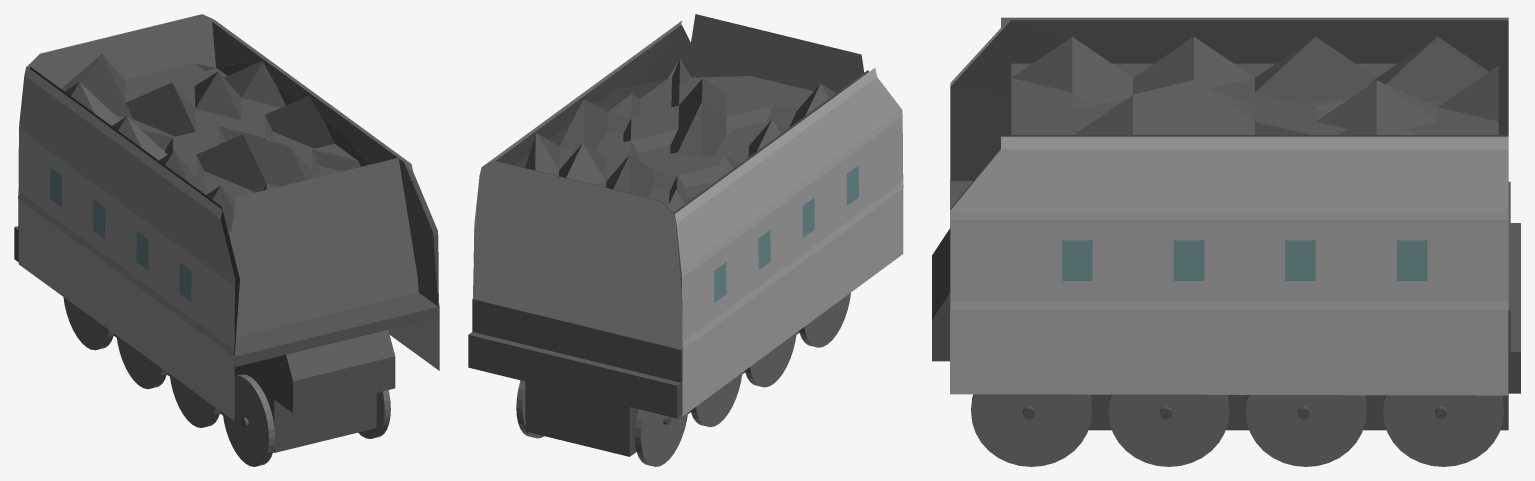
File: lner-a4-tender-silver.dae
3 views of the same model, side by side, from view 1: azimuth 30°, elevation 25°; view 2: azimuth 150°, elevation 25°; view 3: azimuth 270°, elevation 25° (orthographic). The views are drawn at different scales.
Visible parts, largest first — view 1: Plane_028, Plane_055, Plane_007, Plane_066, Plane_002, Plane_027, Plane, Plane_003, Plane_001, Cylinder_004, Plane_063, Plane_068 (+13 smaller); view 2: Plane_005, Plane_028, Plane_007, Plane_066, Plane_055, Plane_004, Plane_006, Plane_001, Plane_003, Plane_063, Plane_068, Cylinder_010 (+12 smaller); view 3: Plane_046, Plane_028, Plane_022, Plane_026, Plane_016, Cylinder_005, Cylinder, Cylinder_008, Cylinder_011, Plane_019, Plane_060, Plane_017 (+17 smaller).
Part boxes in pixels (x1,y1,x2,y2): Plane_028: (61,54,405,237); Plane_055: (230,158,418,336); Plane_007: (18,199,234,420); Plane_066: (19,75,235,279); Plane_002: (234,330,395,413); Plane_027: (18,14,216,193); Plane: (234,292,439,366); Plane_003: (212,22,438,306); Plane_001: (114,334,376,452); Cylinder_004: (222,374,274,466); Plane_063: (191,255,234,348); Plane_068: (24,66,222,218); Plane_005: (473,161,682,349); Plane_028: (515,59,835,212); Plane_007: (682,189,903,415); Plane_066: (676,77,901,270); Plane_055: (686,14,864,92); Plane_004: (468,332,681,418); Plane_006: (472,298,682,382); Plane_001: (525,331,799,456); Plane_003: (474,25,690,298); Plane_063: (858,117,903,212); Plane_068: (674,68,876,223); Cylinder_010: (634,382,687,466); Plane_046: (950,310,1508,395); Plane_028: (1011,36,1498,134); Plane_022: (951,149,1508,210); Plane_026: (950,20,1508,181); Plane_016: (950,220,1061,301); Cylinder_005: (971,394,1091,466); Cylinder: (1108,394,1229,466); Cylinder_008: (1245,395,1366,466); Cylinder_011: (1383,395,1503,466); Plane_019: (1001,136,1508,149); Plane_060: (1427,220,1508,301); Plane_017: (1092,220,1173,301).
Size of the model in its own units: 2.01 by 3.86 by 2.62.
